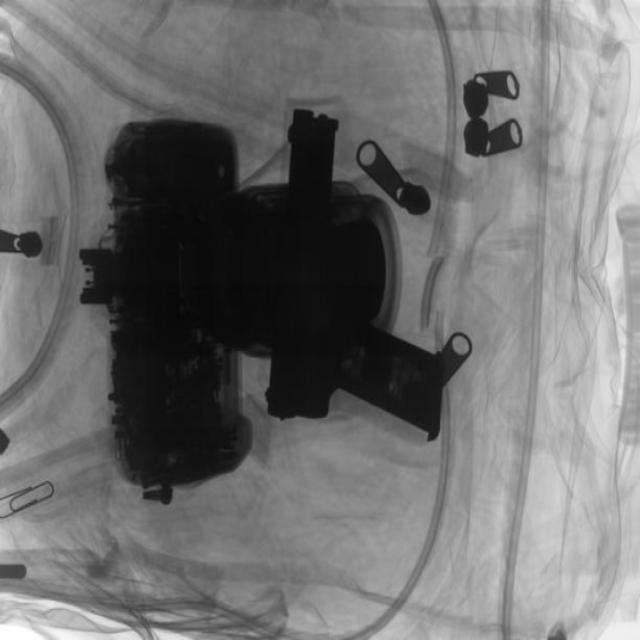GUN: (259, 274, 461, 446)
